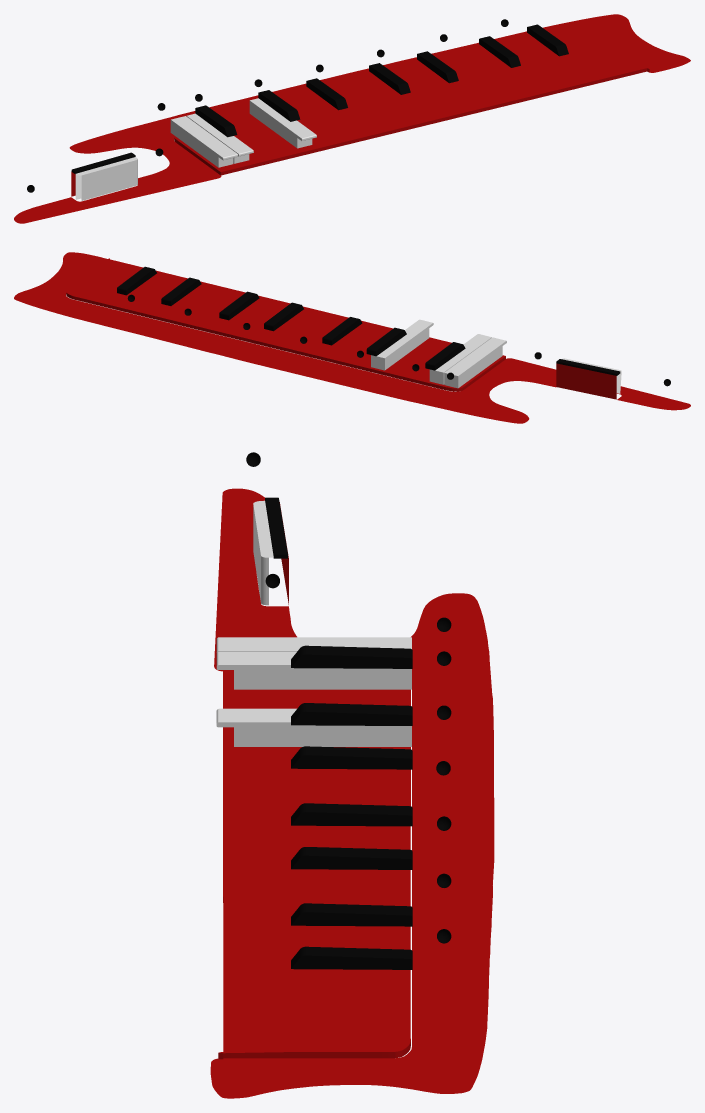
Rendered from ROLAND-AX1.glb.
The picture shows the model from 3 angles, top to bottom: view 1: azimuth 30°, elevation 25°; view 2: azimuth 150°, elevation 25°; view 3: azimuth 270°, elevation 25°; orthographic projection. The views are drawn at different scales.
Visible parts, largest first — view 1: ROLAND AX1 TAPA TECLAS, ROLAND AX1 TAPA, PITCH FORMA.004, MI, DO RE..001, FA SOL LA SI.001, FA# SOL# LA#, DO# RE#, FA# SOL# LA# 4, FA# SOL# LA# 3, DO# RE# 2, FA# SOL# LA# 2 (+2 smaller); view 2: ROLAND AX1 TAPA, ROLAND AX1 TAPA TECLAS, PITCH FORMA.006, MI, DO RE..001, FA SOL LA SI.001, DO# RE#, FA# SOL# LA# 2, DO# RE# 3, FA# SOL# LA#, FA# SOL# LA# 3, FA# SOL# LA# 4 (+2 smaller); view 3: ROLAND AX1 TAPA, ROLAND AX1 TAPA TECLAS, FA SOL LA SI.001, DO RE..001, FA# SOL# LA#, FA# SOL# LA# 4, FA# SOL# LA# 2, DO# RE# 3, DO# RE# 2, FA# SOL# LA# 3, DO# RE#, MI (+1 smaller).
Part boxes in pixels (x1,y1,x2,y2): ROLAND AX1 TAPA TECLAS: [174, 33, 649, 175]; ROLAND AX1 TAPA: [14, 14, 690, 223]; PITCH FORMA.004: [75, 157, 137, 200]; MI: [170, 116, 237, 167]; DO RE..001: [249, 98, 316, 148]; FA SOL LA SI.001: [186, 113, 253, 163]; FA# SOL# LA#: [195, 105, 237, 137]; DO# RE#: [258, 90, 300, 121]; FA# SOL# LA# 4: [527, 24, 568, 56]; FA# SOL# LA# 3: [417, 51, 458, 83]; DO# RE# 2: [369, 63, 410, 94]; FA# SOL# LA# 2: [306, 78, 347, 110]; ROLAND AX1 TAPA: [14, 252, 690, 423]; ROLAND AX1 TAPA TECLAS: [66, 258, 505, 391]; PITCH FORMA.006: [556, 363, 616, 399]; MI: [444, 337, 506, 388]; DO RE..001: [371, 319, 433, 370]; FA SOL LA SI.001: [429, 334, 491, 384]; DO# RE#: [366, 327, 406, 356]; FA# SOL# LA# 2: [322, 317, 362, 345]; DO# RE# 3: [161, 277, 201, 305]; FA# SOL# LA#: [425, 342, 465, 370]; FA# SOL# LA# 3: [219, 291, 259, 320]; FA# SOL# LA# 4: [117, 266, 156, 295]; ROLAND AX1 TAPA: [210, 488, 494, 1098]; ROLAND AX1 TAPA TECLAS: [218, 670, 410, 1059]; FA SOL LA SI.001: [216, 651, 411, 689]; DO RE..001: [216, 708, 411, 746]; FA# SOL# LA#: [291, 645, 412, 668]; FA# SOL# LA# 4: [291, 946, 412, 969]; FA# SOL# LA# 2: [291, 746, 412, 769]; DO# RE# 3: [291, 903, 412, 926]; DO# RE# 2: [291, 803, 412, 826]; FA# SOL# LA# 3: [291, 847, 412, 869]; DO# RE#: [291, 703, 412, 725]; MI: [216, 637, 411, 652].
Size of the model in its own units: 2.42 by 0.0988 by 0.476.
